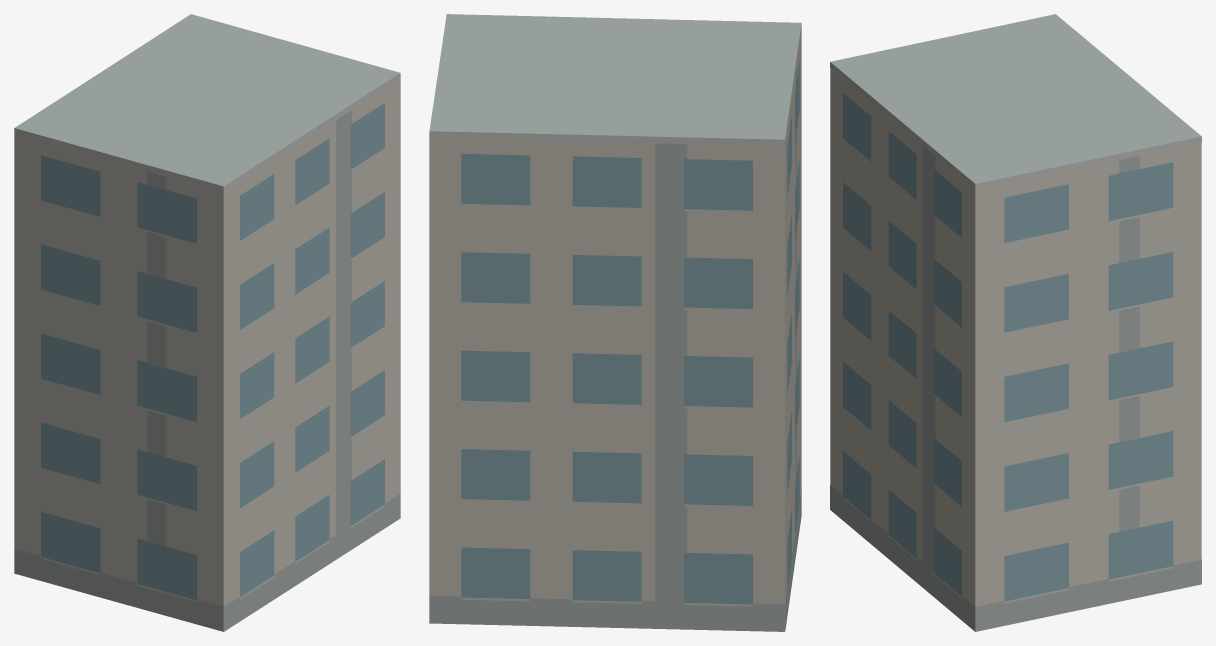
File: survey-upis-32860633.glb
The picture shows the model from 3 angles, left to right: view 1: azimuth 30°, elevation 25°; view 2: azimuth 150°, elevation 25°; view 3: azimuth 270°, elevation 25°; orthographic projection. The views are drawn at different scales.
Parts seen in each view (by area): view 1: survey-upis-32860633.tmp; view 2: survey-upis-32860633.tmp; view 3: survey-upis-32860633.tmp.
Boxes of the visible parts, x1,y1,x2,y2 form: survey-upis-32860633.tmp: [14, 14, 400, 631]; survey-upis-32860633.tmp: [429, 14, 801, 631]; survey-upis-32860633.tmp: [830, 14, 1201, 631].
Bounding box in the file's own units: 14.15 × 17.39 × 13.09.
